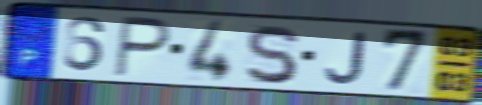4: (185, 18, 235, 85)
6: (63, 15, 109, 75)
7: (379, 26, 431, 95)
J: (322, 30, 367, 87)
P: (110, 13, 174, 80)
S: (243, 23, 300, 86)
